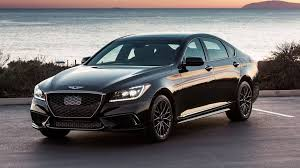car: (29, 31, 263, 144)
